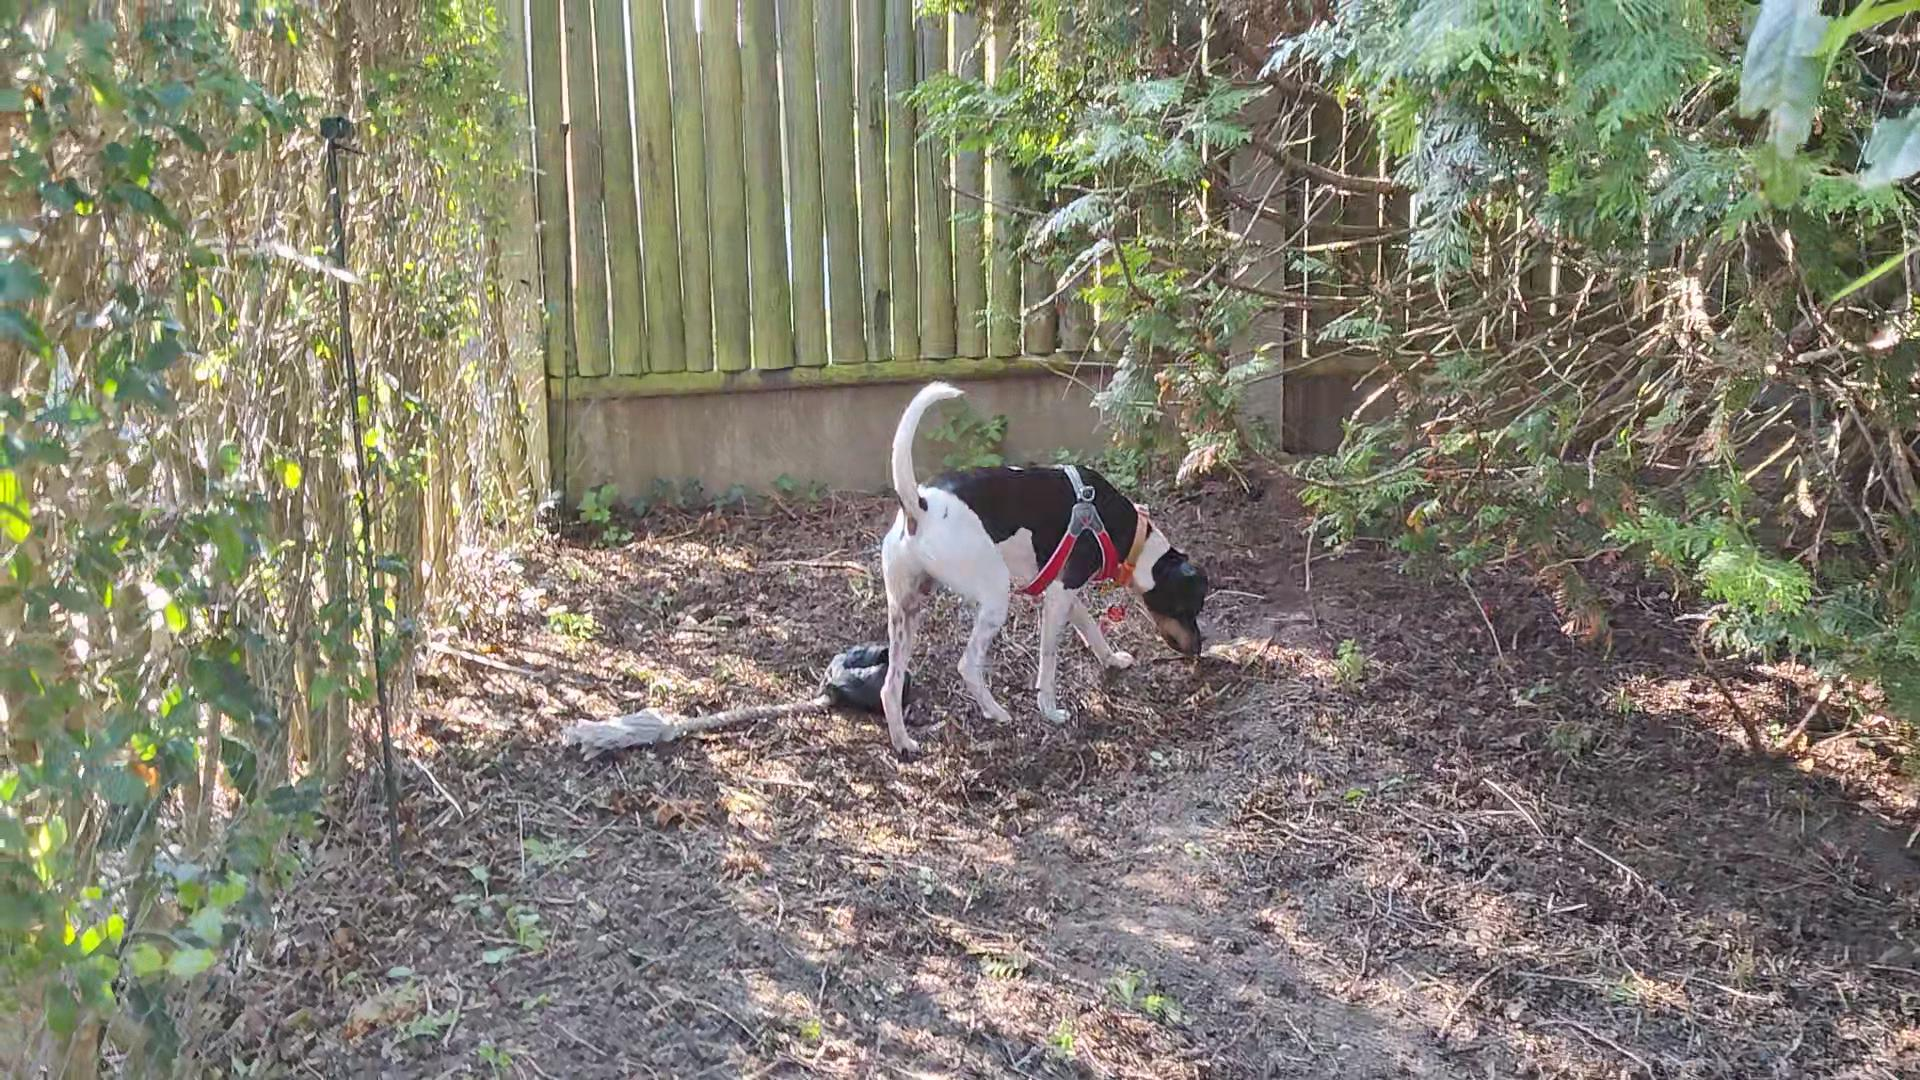Dog: (841, 365, 1224, 773)
